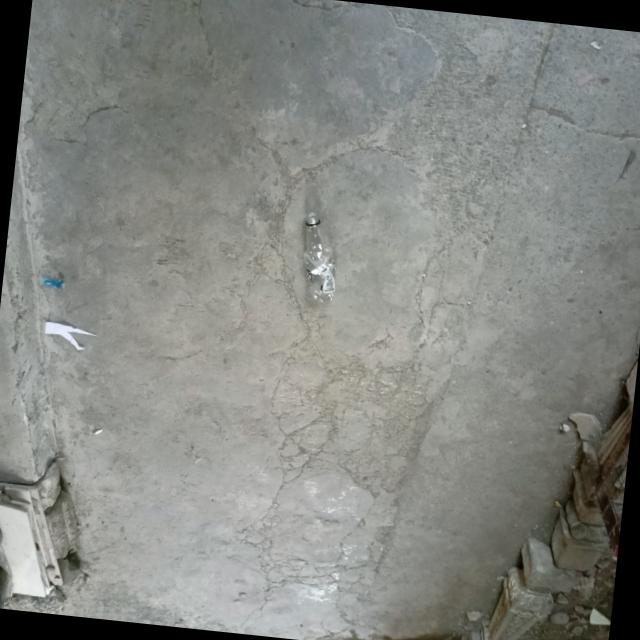Bottle: (302, 212, 335, 302)
